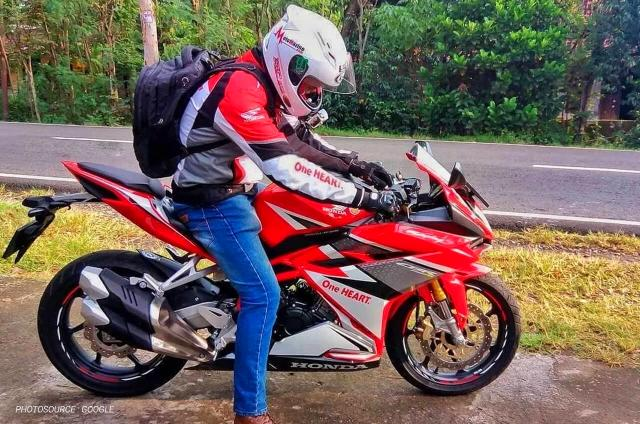helm: (261, 3, 361, 122)
motor: (3, 136, 526, 404)
